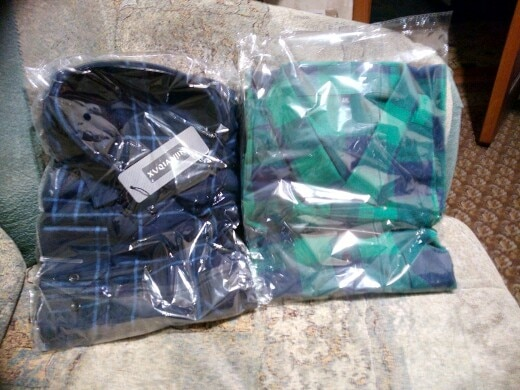shirts: (45, 53, 235, 330), (236, 62, 446, 293)
